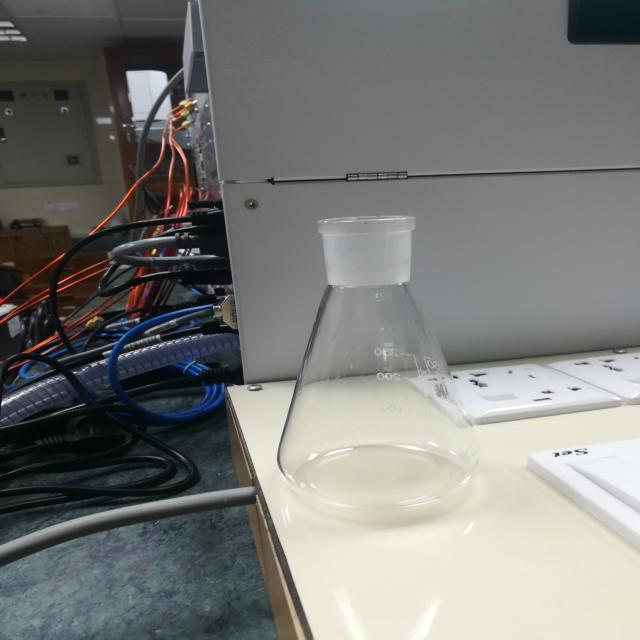Conical_Flask: (250, 162, 507, 544)
